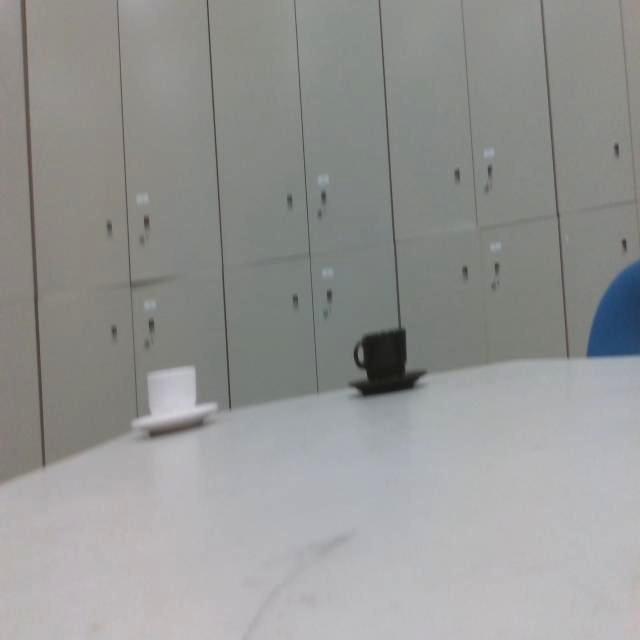black: (346, 325, 429, 396)
white: (129, 362, 220, 441)
